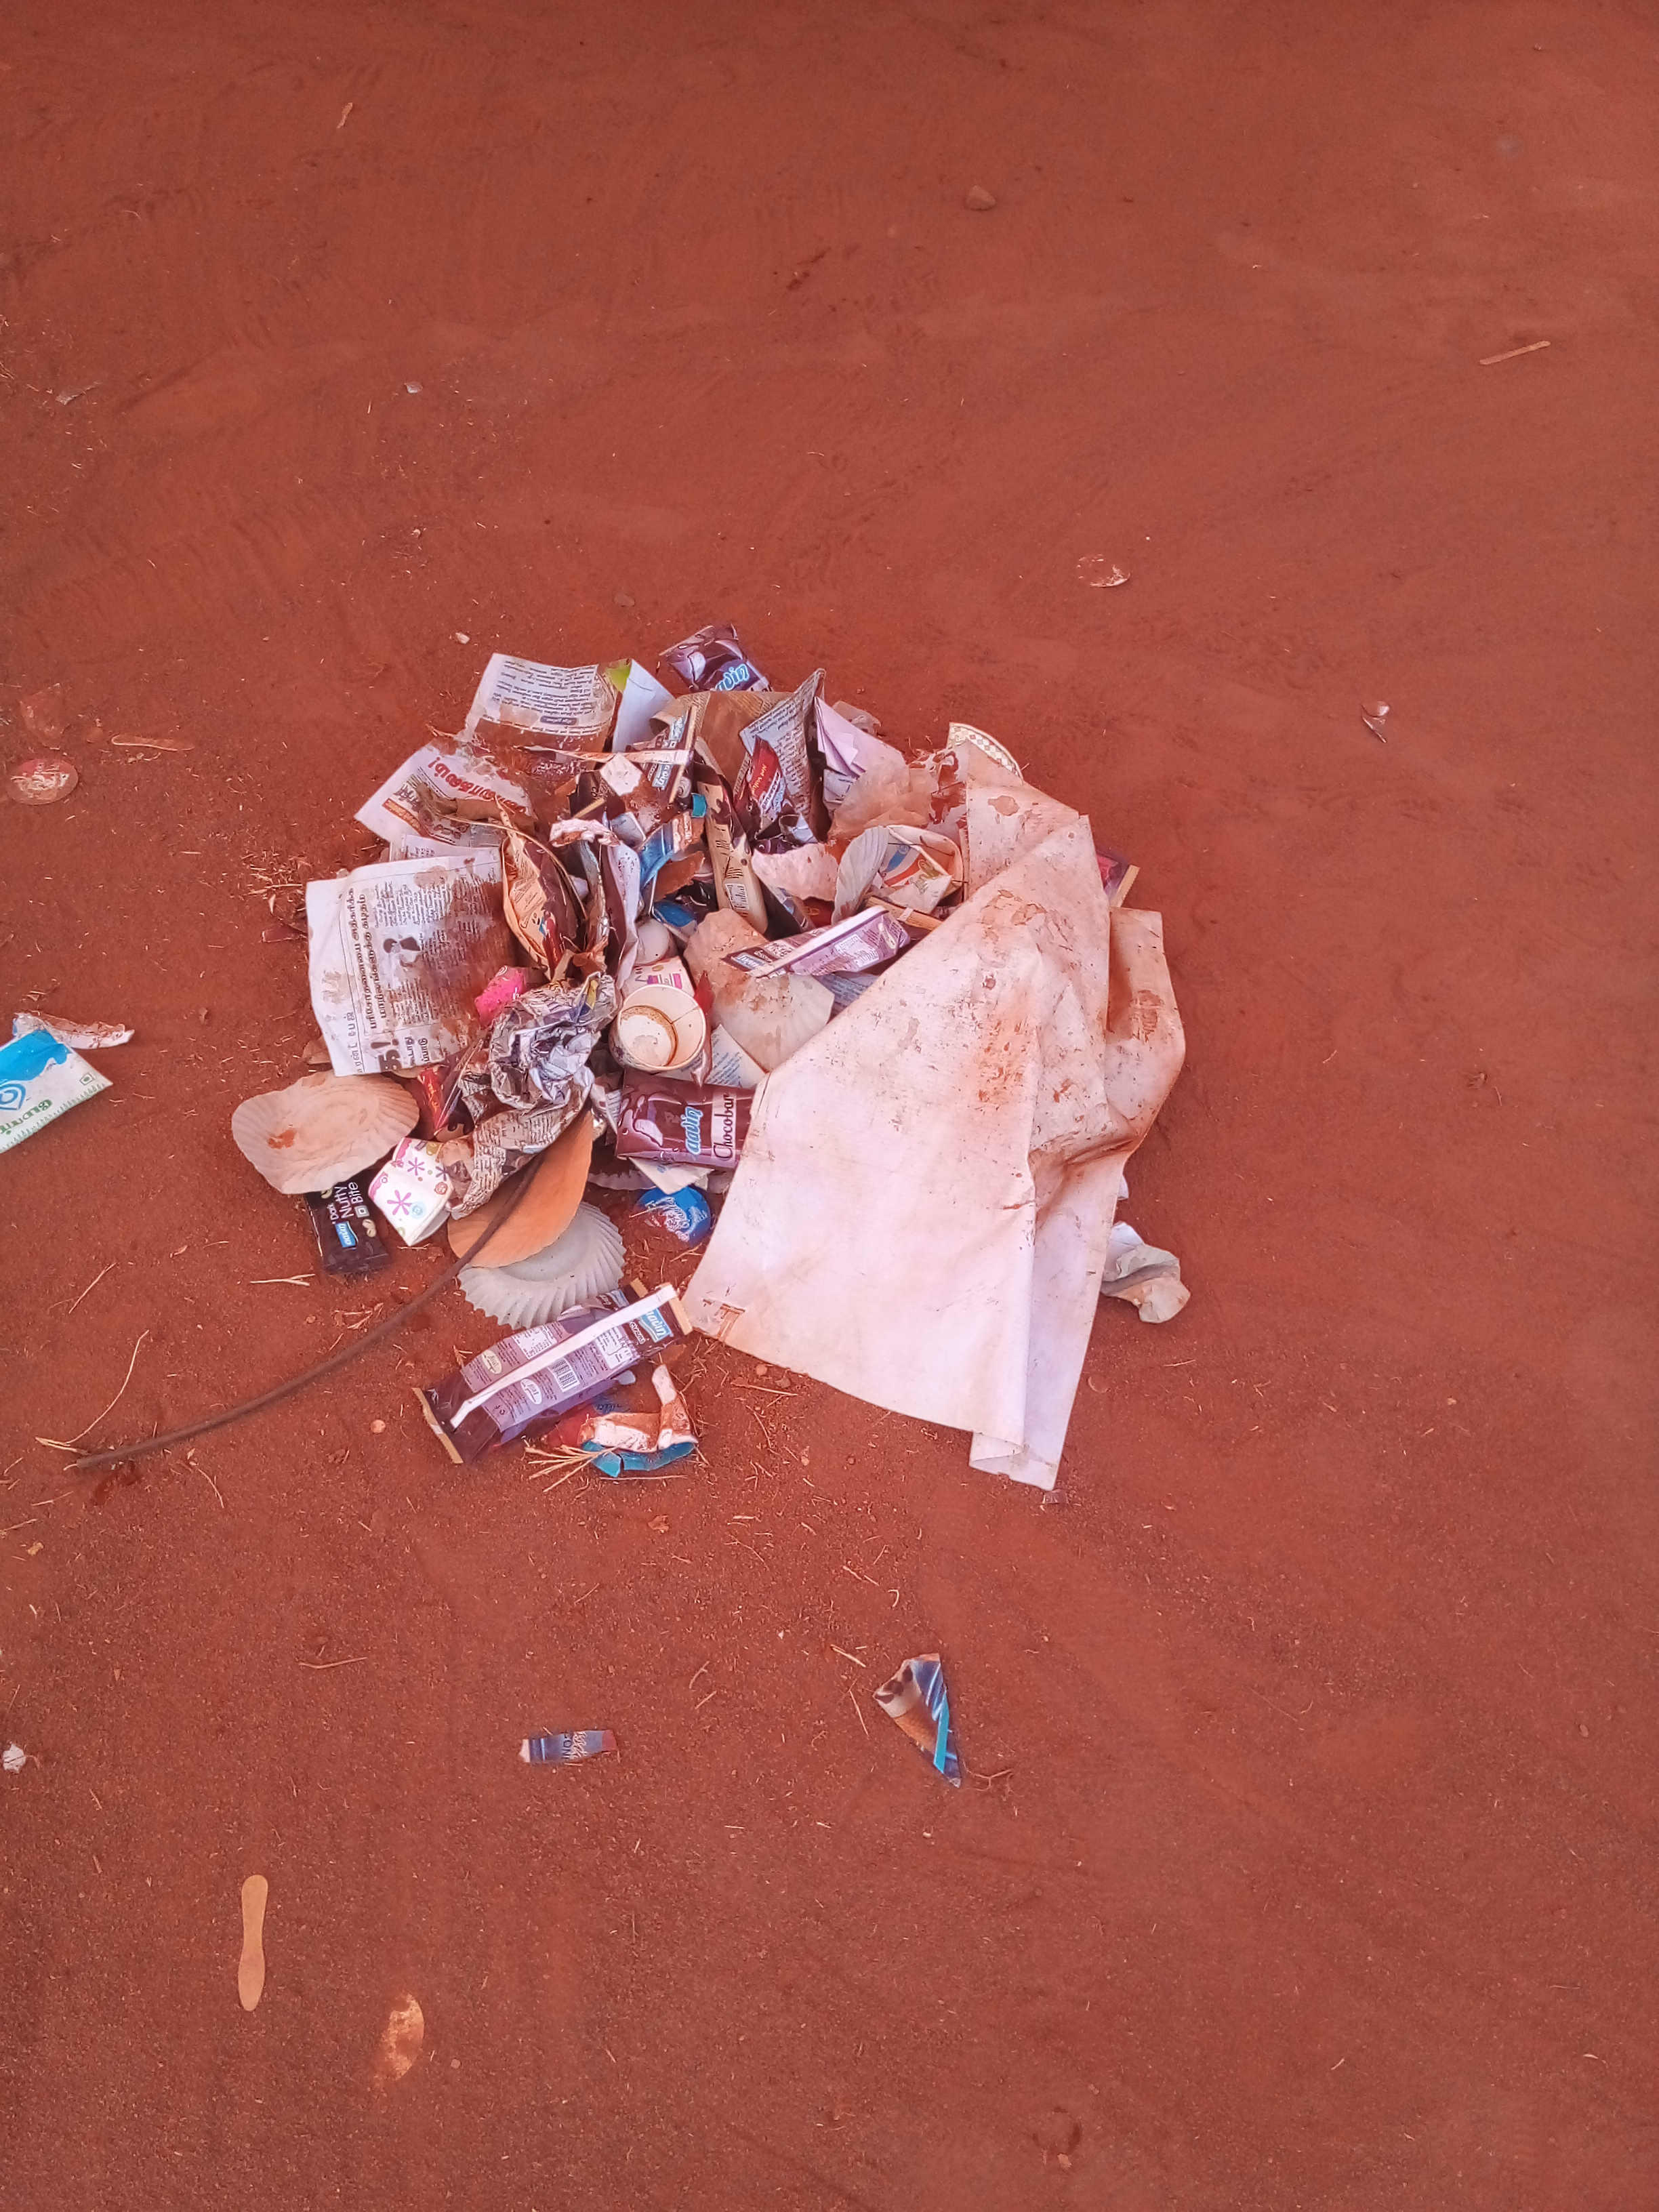pbag: (0, 1001, 122, 1172)
plastic: (692, 794, 1115, 1489)
